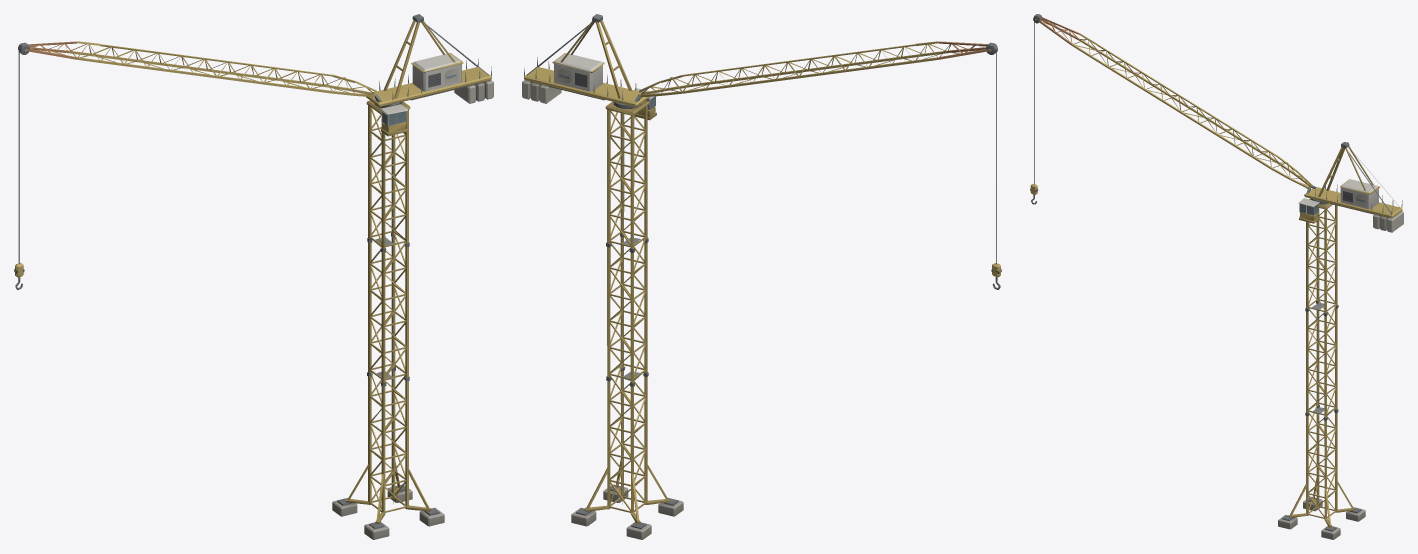
Rendered from crane.lod1.glb.
The picture shows the model from 3 angles, left to right: view 1: azimuth 30°, elevation 25°; view 2: azimuth 150°, elevation 25°; view 3: azimuth 330°, elevation 25°; orthographic projection. The views are drawn at different scales.
Size of the model in its own units: 51.18 by 58.15 by 7.8.
